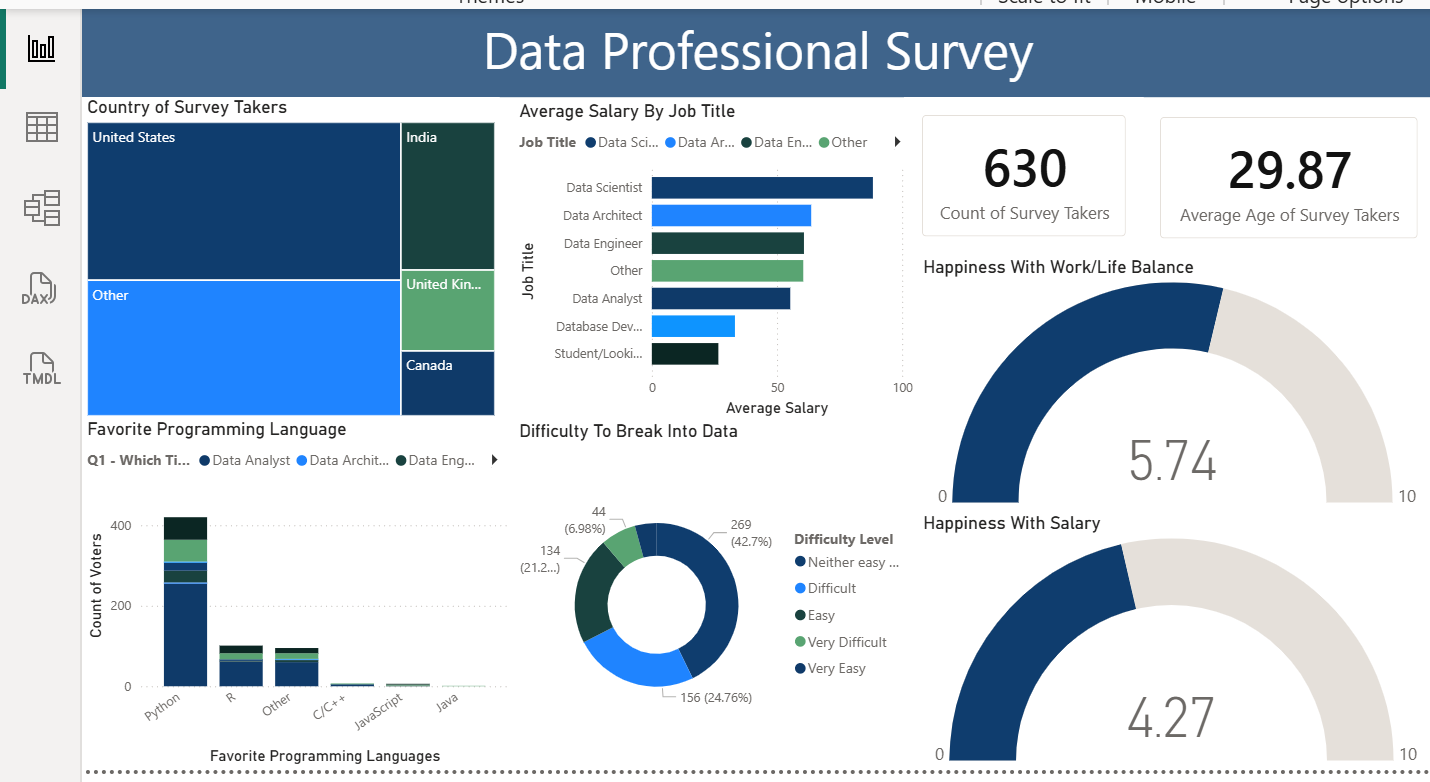

What the dashboard file says about the page in this screenshot:
{"tool":"powerbi","page":{"name":"Page 1","canvas":[1280,720],"ordinal":0},"visuals":[{"type":"textbox","box":[0,0,1280,83.3],"z":0},{"type":"cardVisual","fields":{"Data":["CountNonNull(Data Professional Survey.Unique ID)"]},"box":[778.2,83.3,227.2,149.6],"z":1000},{"type":"cardVisual","fields":{"Data":["Avg(Data Professional Survey.Q10 - Current Age)"]},"box":[1003.6,85.2,278.3,149.6],"z":2000},{"type":"barChart","title":"Average Salary By Job Title","fields":{"Category":["Data Professional Survey.Q1 - Which Title Best Fits your Current Role?.1"],"Y":["Avg(Data Professional Survey.Average Salary(USD))"],"Series":["Data Professional Survey.Q1 - Which Title Best Fits your Current Role?.1"]},"box":[409,87.1,382.5,303],"z":3000},{"type":"columnChart","title":"Favorite Programming Language","fields":{"Category":["Data Professional Survey.Q5 - Favorite Programming Language.1"],"Y":["CountNonNull(Data Professional Survey.Unique ID)"],"Series":["Data Professional Survey.Q1 - Which Title Best Fits your Current Role?.1"]},"box":[0,388.2,409,331.4],"z":4000},{"type":"treemap","title":"Country of Survey Takers","fields":{"Group":["Data Professional Survey.Q11 - Which Country do you live in?.1"],"Values":["CountNonNull(Data Professional Survey.Q11 - Which Country do you live in?.1)"]},"box":[0,83.3,395.7,306.7],"z":5000},{"type":"gauge","title":"Happiness With Work/Life Balance","fields":{"Y":["Avg(Data Professional Survey.Q6 - How Happy are you in your Current Position with the following? (Work/Life Balance))"],"MinValue":["Min(Data Professional Survey.Q6 - How Happy are you in your Current Position with the following? (Work/Life Balance))"],"MaxValue":["Max(Data Professional Survey.Q6 - How Happy are you in your Current Position with the following? (Work/Life Balance))1"]},"box":[791.5,234.8,490.4,242.4],"z":6000},{"type":"gauge","title":"Happiness With Salary","fields":{"Y":["Avg(Data Professional Survey.Q6 - How Happy are you in your Current Position with the following? (Salary))"],"MinValue":["Min(Data Professional Survey.Q6 - How Happy are you in your Current Position with the following? (Salary))"],"MaxValue":["Max(Data Professional Survey.Q6 - How Happy are you in your Current Position with the following? (Salary))"]},"box":[791.5,477.2,488.5,244.3],"z":7000},{"type":"donutChart","title":"Difficulty To Break Into Data","fields":{"Category":["Data Professional Survey.Q7 - How difficult was it for you to break into Data?"],"Y":["CountNonNull(Data Professional Survey.Q7 - How difficult was it for you to break into Data?)"]},"box":[409,390,382,329],"z":8000}]}

Visuals, with their boxes in screenshot pixels (x1, y1, x2, y2):
textbox: 0,4,1326,93
cardVisual - CountNonNull(Data Professional Survey.Unique ID): 789,93,1032,253
cardVisual - Avg(Data Professional Survey.Q10 - Current Age): 1030,95,1328,255
"Average Salary By Job Title" barChart: 393,97,803,422
"Favorite Programming Language" columnChart: 0,420,393,775
"Country of Survey Takers" treemap: 0,93,379,421
"Happiness With Work/Life Balance" gauge: 803,255,1328,515
"Happiness With Salary" gauge: 803,515,1326,777
"Difficulty To Break Into Data" donutChart: 393,421,803,774
